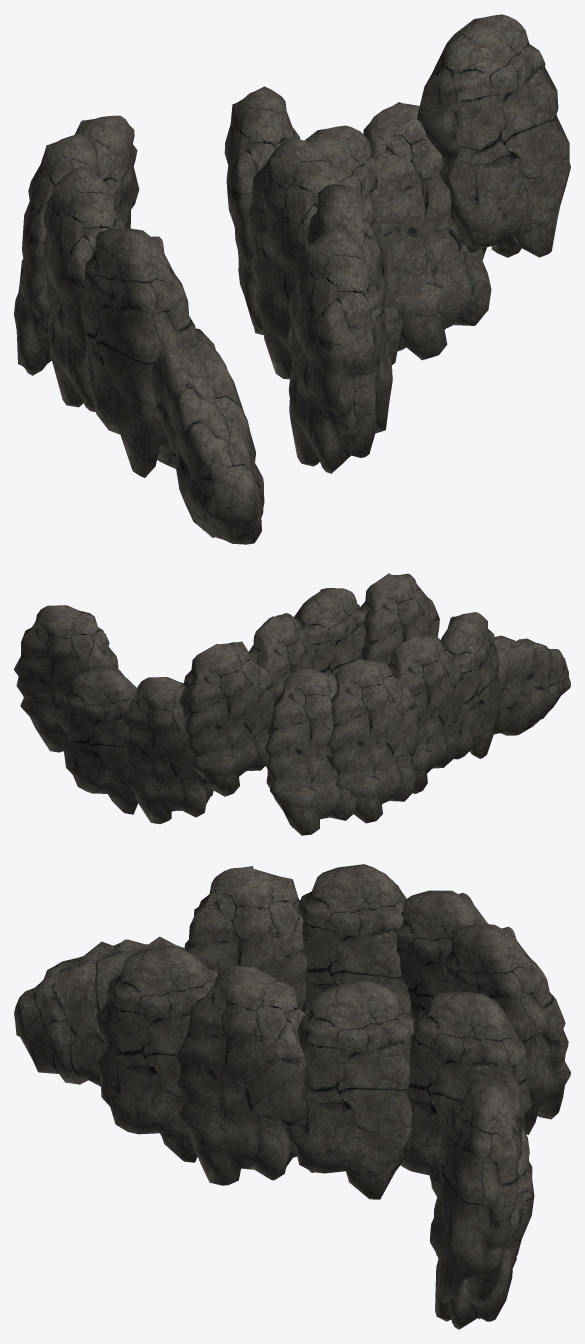
Rendered from TwinPeakRocksShape9.dae.
The picture shows the model from 3 angles, top to bottom: view 1: azimuth 30°, elevation 25°; view 2: azimuth 150°, elevation 25°; view 3: azimuth 270°, elevation 25°; orthographic projection. The views are drawn at different scales.
Visible parts, largest first — view 1: TwinPeakRocks9; view 2: TwinPeakRocks9; view 3: TwinPeakRocks9.
Part boxes in pixels (x1,y1,x2,y2): TwinPeakRocks9: [14, 14, 570, 544]; TwinPeakRocks9: [14, 573, 570, 835]; TwinPeakRocks9: [14, 864, 570, 1329].
Size of the model in its own units: 254 by 130 by 228.
